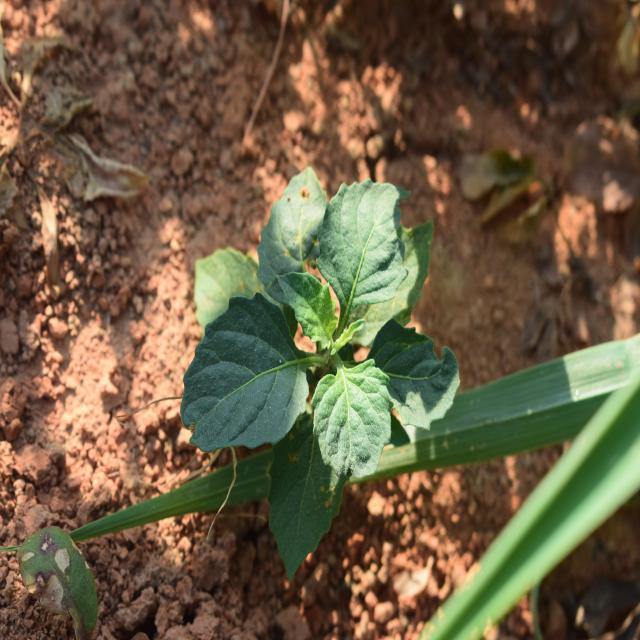Black_nightshade: (195, 176, 451, 526)
